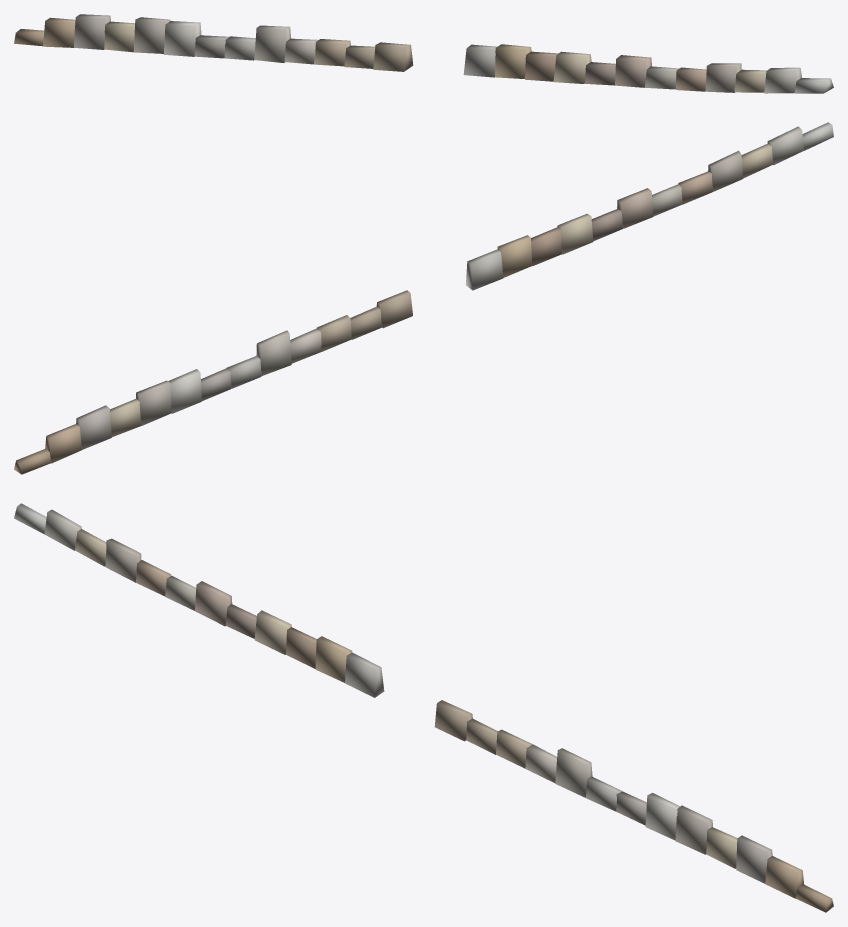
Rendered from farm_-6_5_far.glb.
3 views of the same model, one above another, from view 1: azimuth 90°, elevation 25°; view 2: azimuth 150°, elevation 25°; view 3: azimuth 270°, elevation 25° (orthographic). The views are drawn at different scales.
Parts seen in each view (by area): view 1: geometry_0; view 2: geometry_0; view 3: geometry_0.
Boxes of the visible parts, <box> form: geometry_0: <box>14,14,833,93</box>; geometry_0: <box>14,122,833,474</box>; geometry_0: <box>14,503,833,912</box>.
Bounding box in the file's own units: 23.37 × 8.88 × 35.55.
